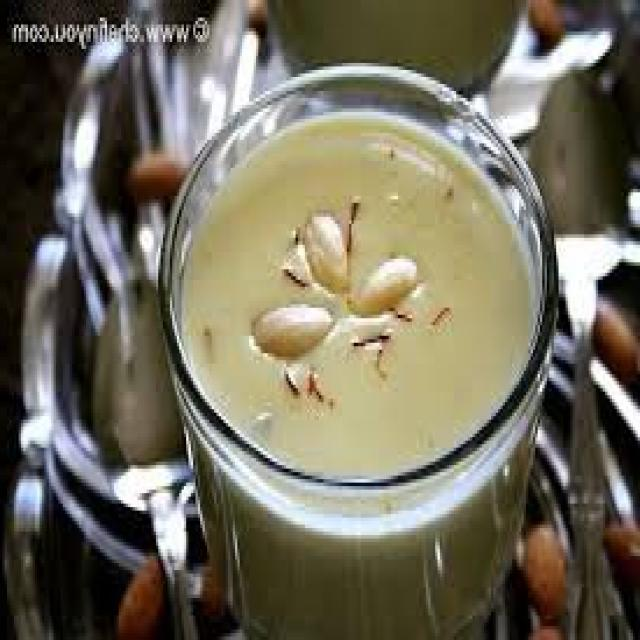Kheer: (184, 127, 529, 496)
